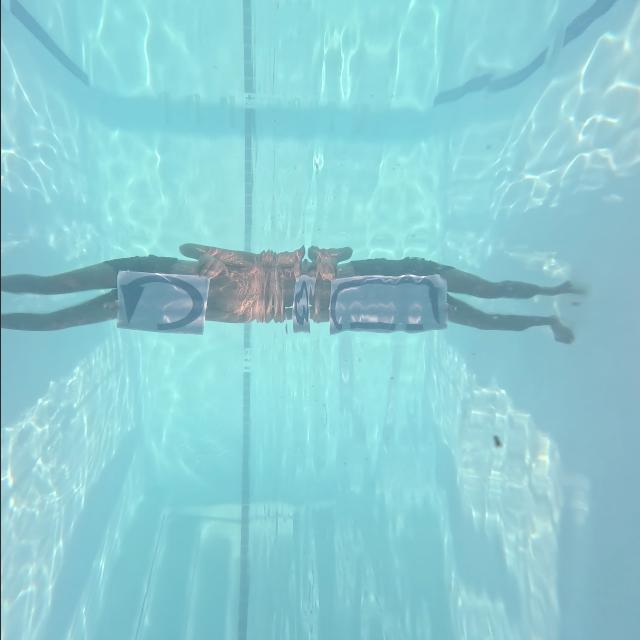blue_side: (108, 273, 206, 333)
